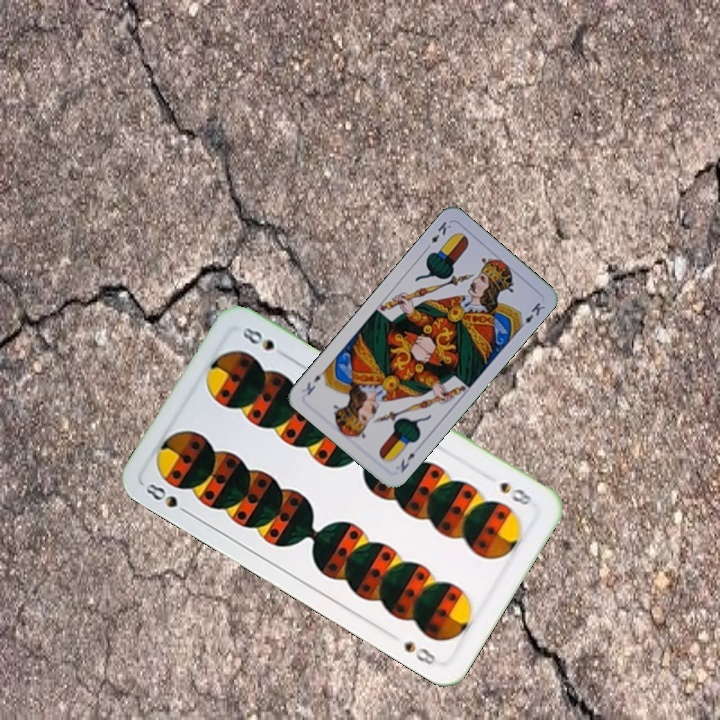EK: (421, 217, 454, 253), (396, 449, 418, 475)
S8: (141, 479, 194, 518), (495, 478, 535, 508)
